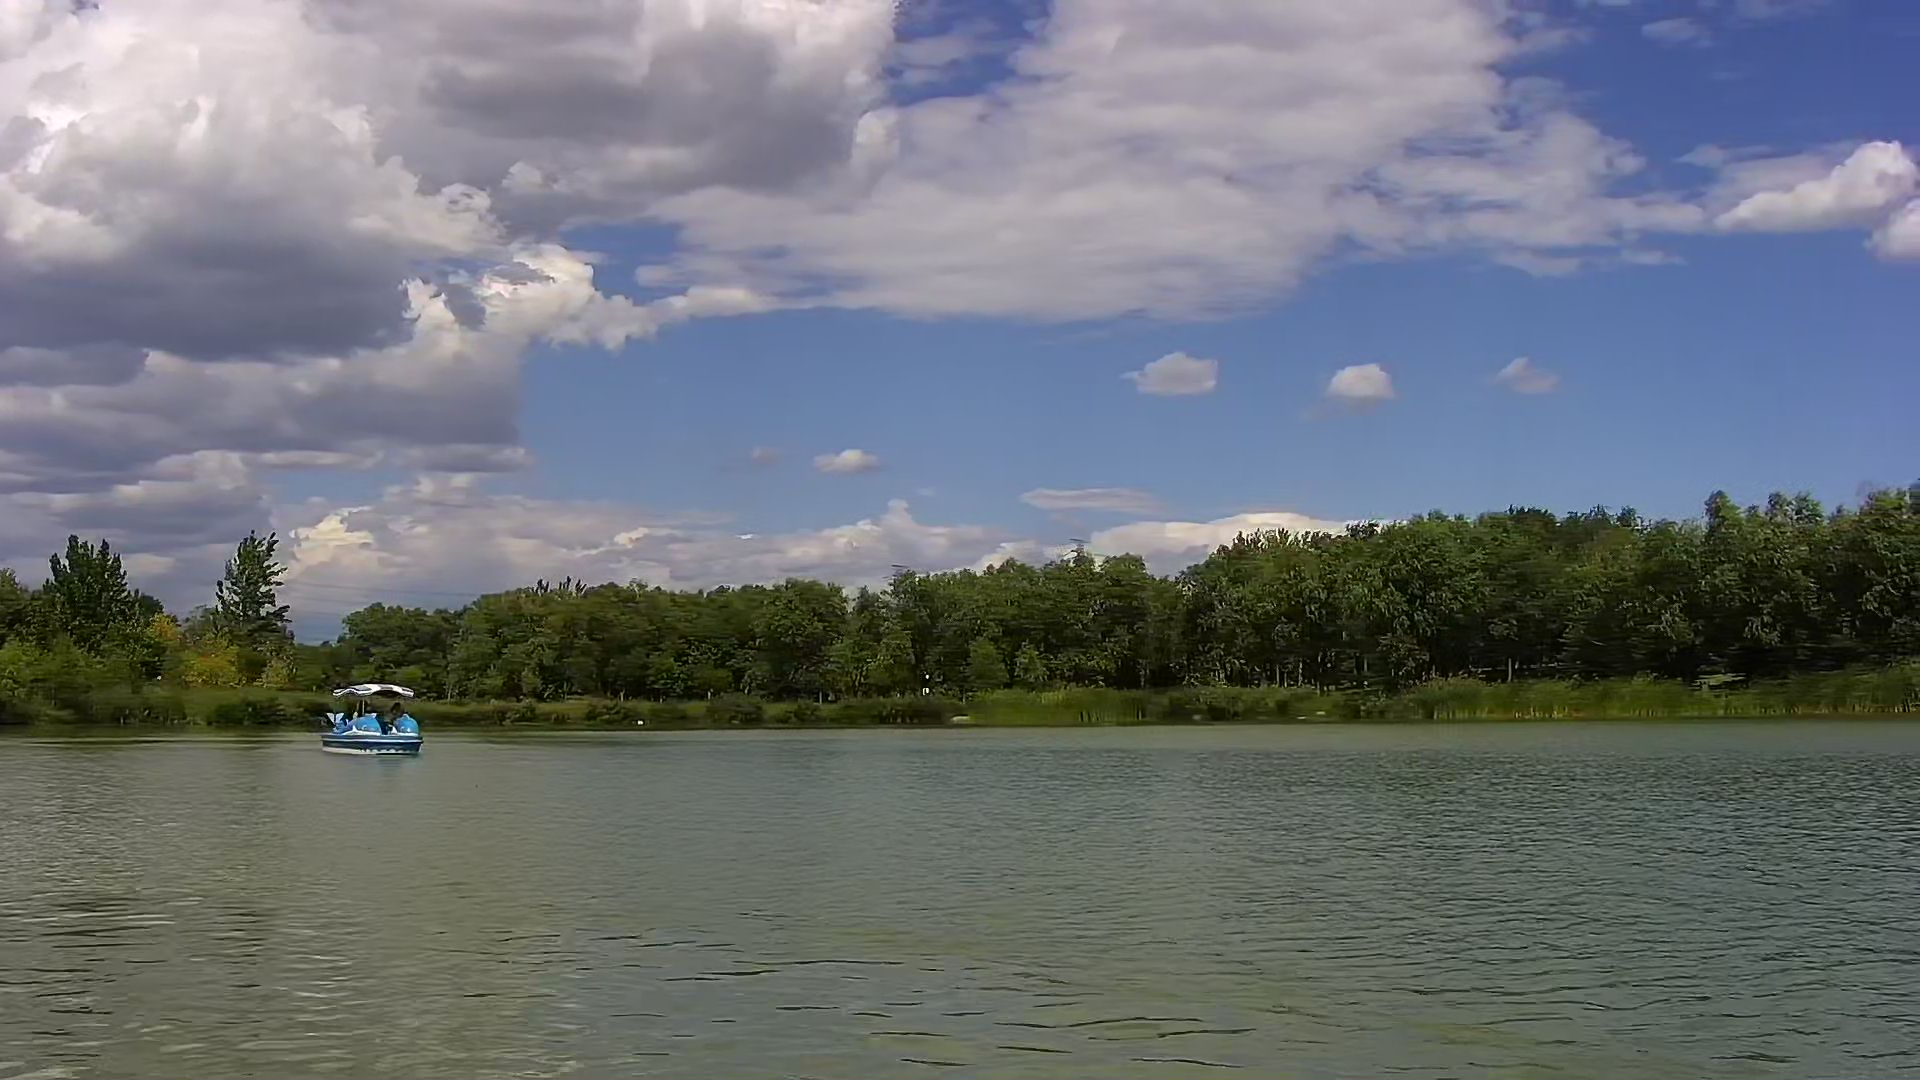boat: (316, 679, 419, 760)
